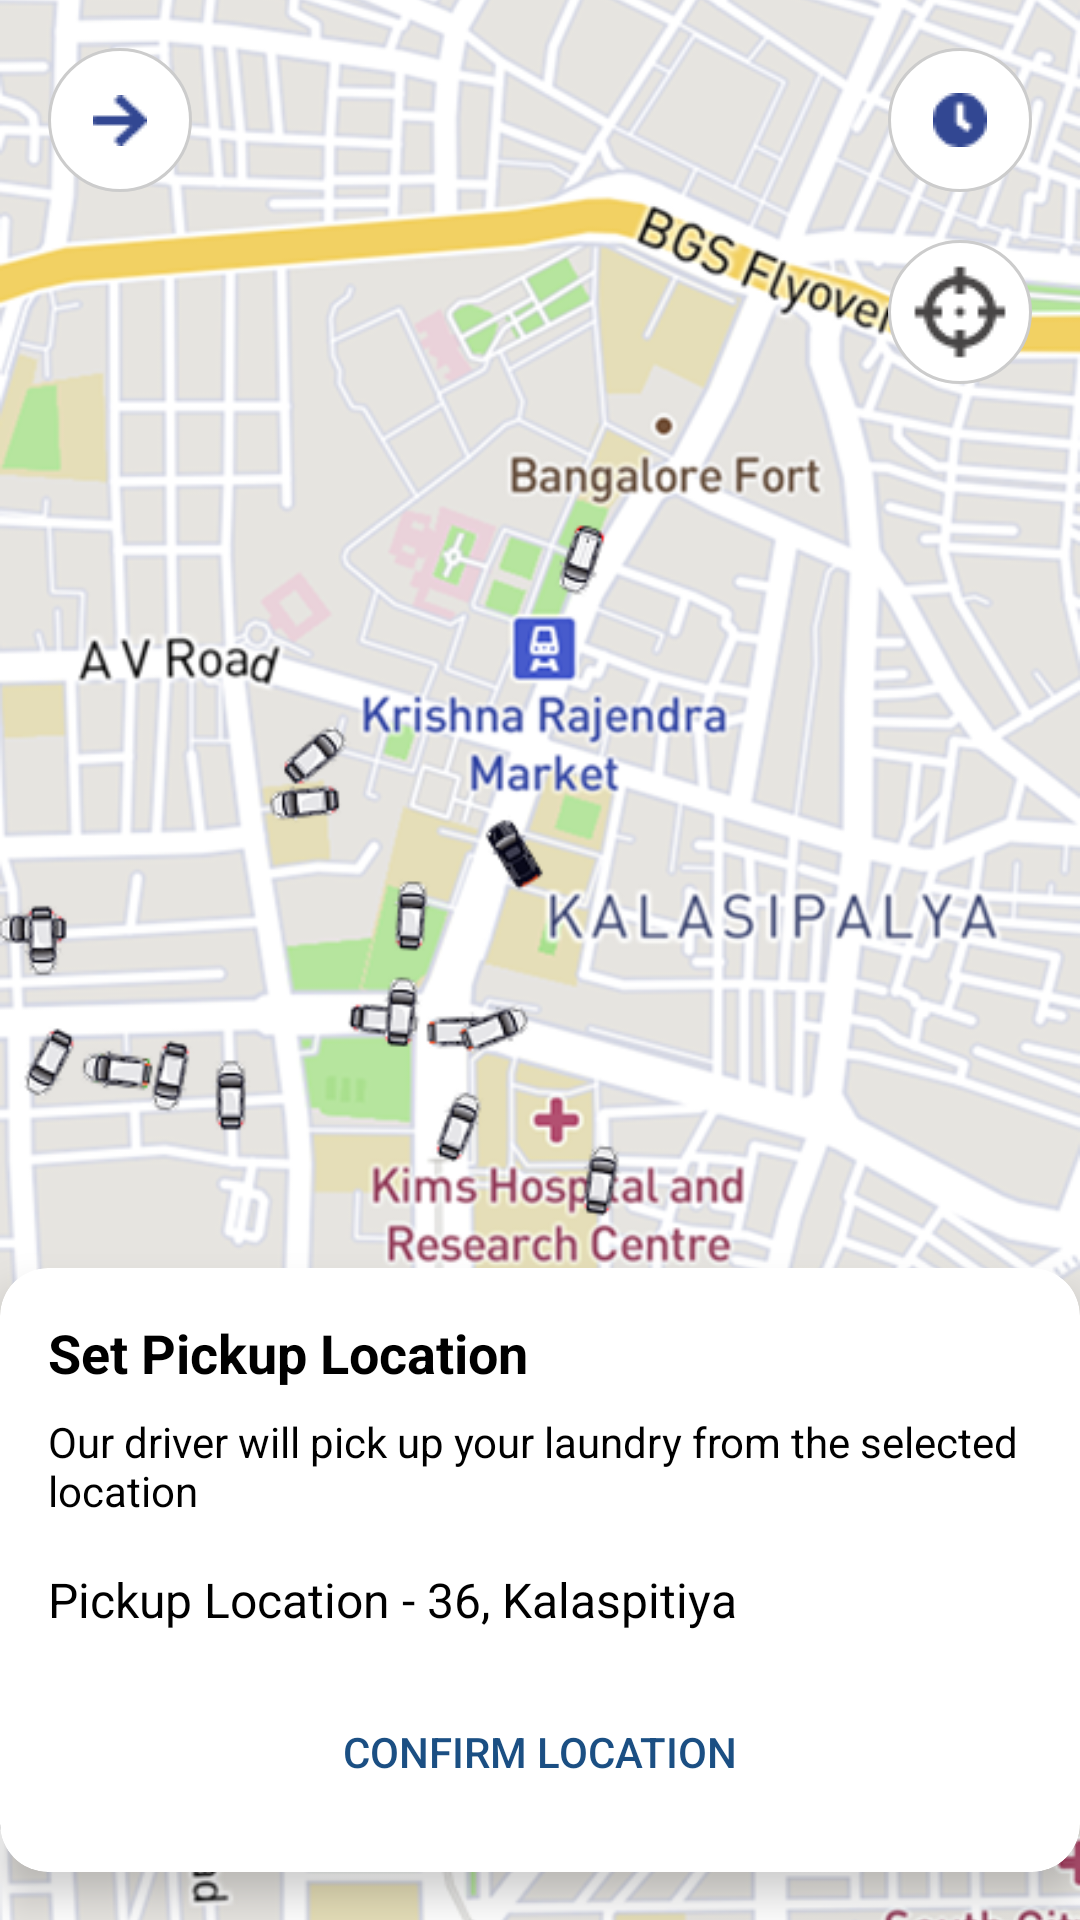

Point at icon controls on the screen. Image size 1080w x 1920h, points as (x=x, y=y).
arrow: (x=120, y=120)
recent: (x=960, y=120)
target: (x=960, y=312)
